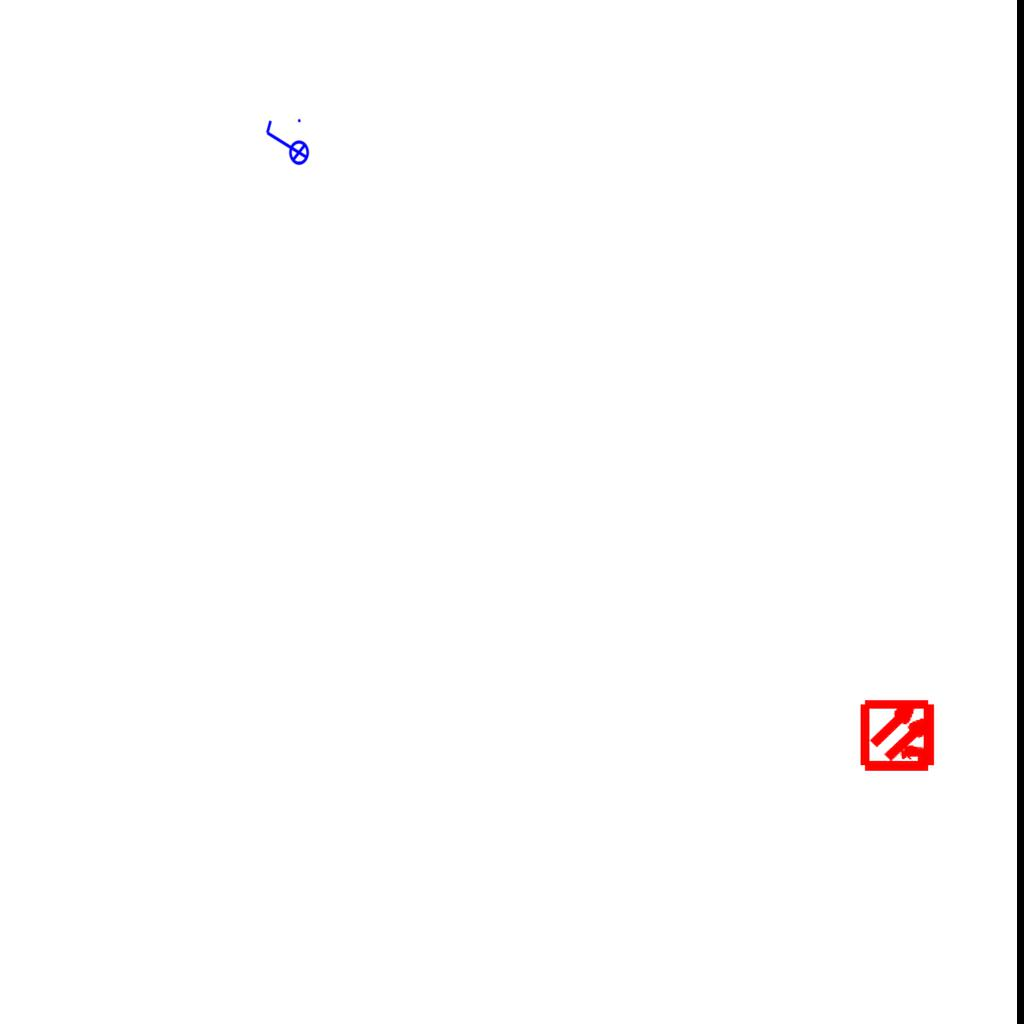Ausschalter_beleuchtet: (262, 116, 310, 172)
OT_Multisensormelder_(Kombination_RMO_WMD): (843, 679, 956, 792)
